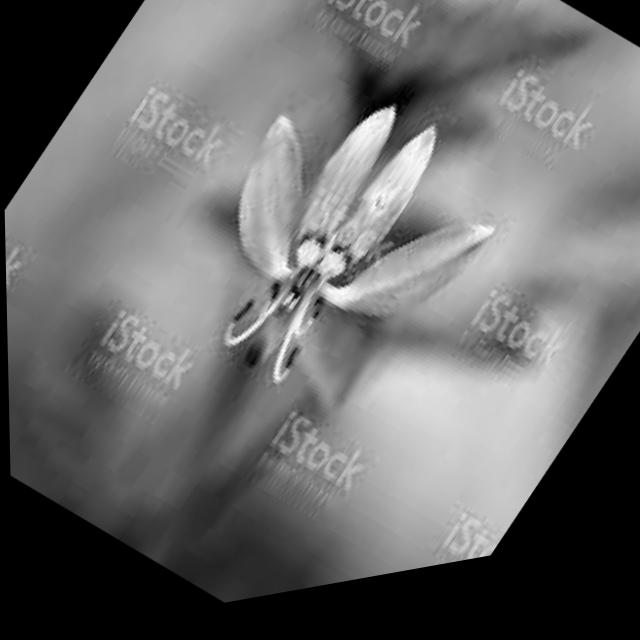Flower: (141, 34, 530, 472)
